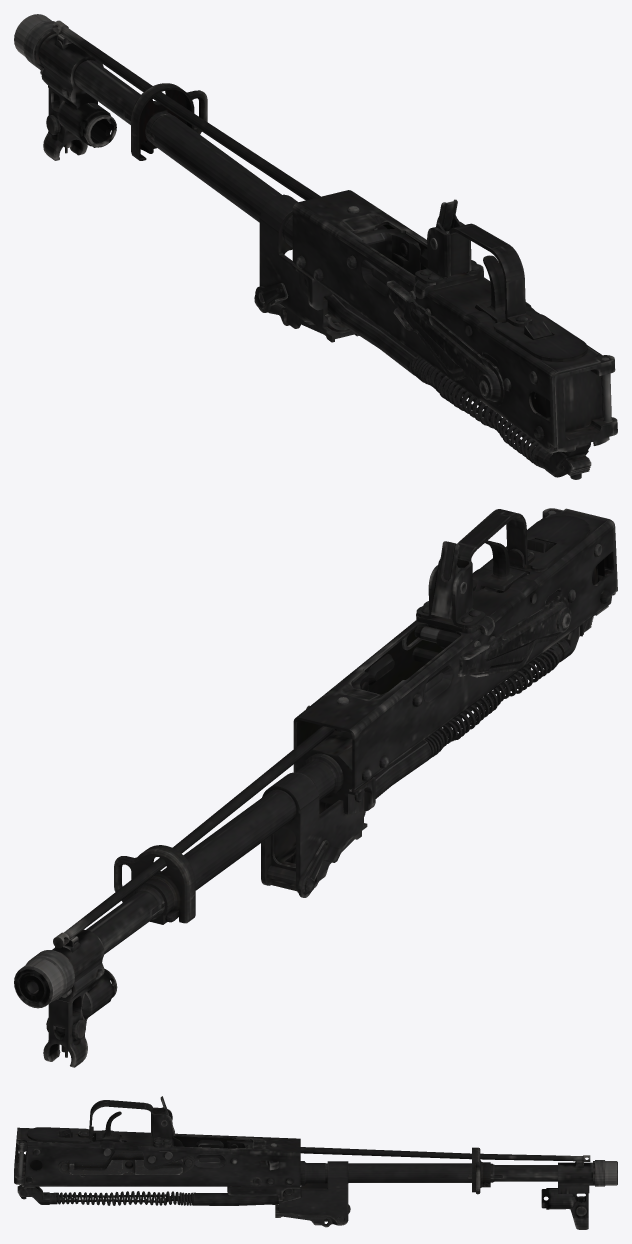
3 views of the same model, one above another, from view 1: azimuth 30°, elevation 25°; view 2: azimuth 150°, elevation 25°; view 3: azimuth 270°, elevation 25° (orthographic). The views are drawn at different scales.
Visible parts, largest first — view 1: TW_5ac66d015acfc400180ae6e4_PZ_Import; view 2: TW_5ac66d015acfc400180ae6e4_PZ_Import; view 3: TW_5ac66d015acfc400180ae6e4_PZ_Import.
Part boxes in pixels (left/top/right/bottom): TW_5ac66d015acfc400180ae6e4_PZ_Import: left=14, top=14, right=617, bottom=479; TW_5ac66d015acfc400180ae6e4_PZ_Import: left=14, top=508, right=617, bottom=1067; TW_5ac66d015acfc400180ae6e4_PZ_Import: left=14, top=1096, right=617, bottom=1229.
Bounding box in the file's own units: 0.0285 × 0.3124 × 0.0735.
Materials: 1 (1 with a texture image).
